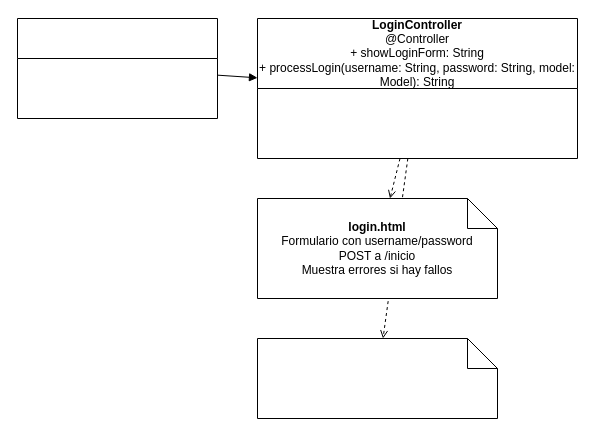
The diagram is 595 pixels wide and 436 high, and some of its shapes have lost their labels. Each missing label, with the centre of its shape:
"DemoApplication @SpringBootApplication + main(): void" goes at [117,68].
"home.html Página de bienvenida Muestra el nombre del usuario" goes at [377,378].
